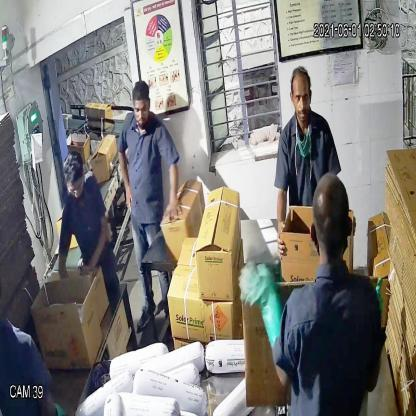goggles: (63, 178, 86, 202)
no_goggles: (288, 88, 316, 109), (128, 100, 153, 121)
